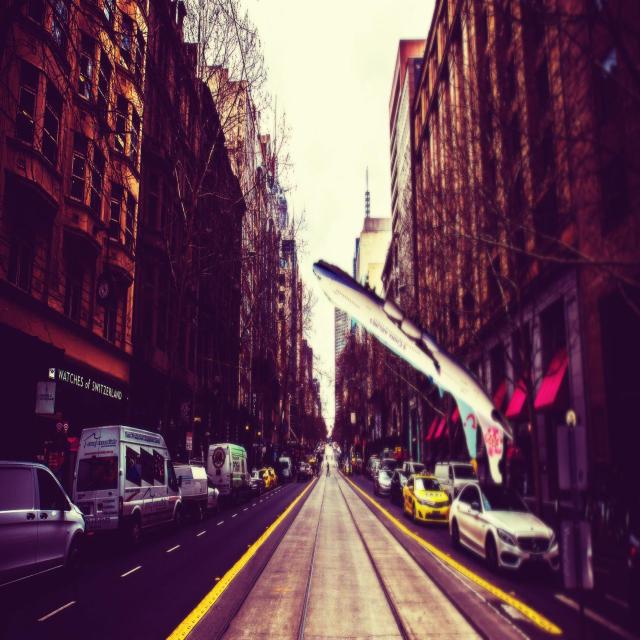airplane: (312, 258, 514, 485)
